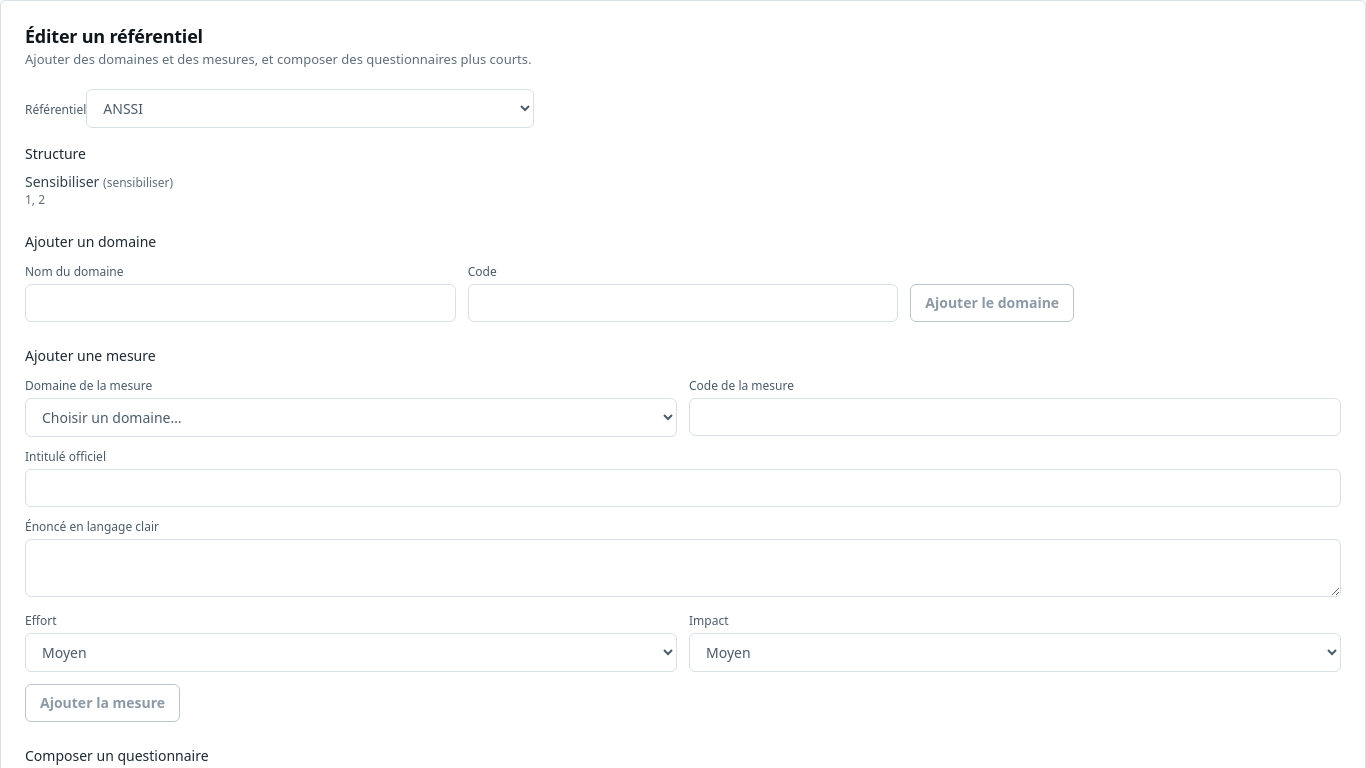
EditionReferentiel › n’ajoute pas une mesure dont l’énoncé n’est pas rédigé
The width and height of the screenshot is (1366, 768).
Check: the heading "Structure" is shown, box [25,144,86,163]
Select "Sensibiliser" in the dropdown labelled "Domaine de la mesure": [351, 418] box [25,398,677,437]
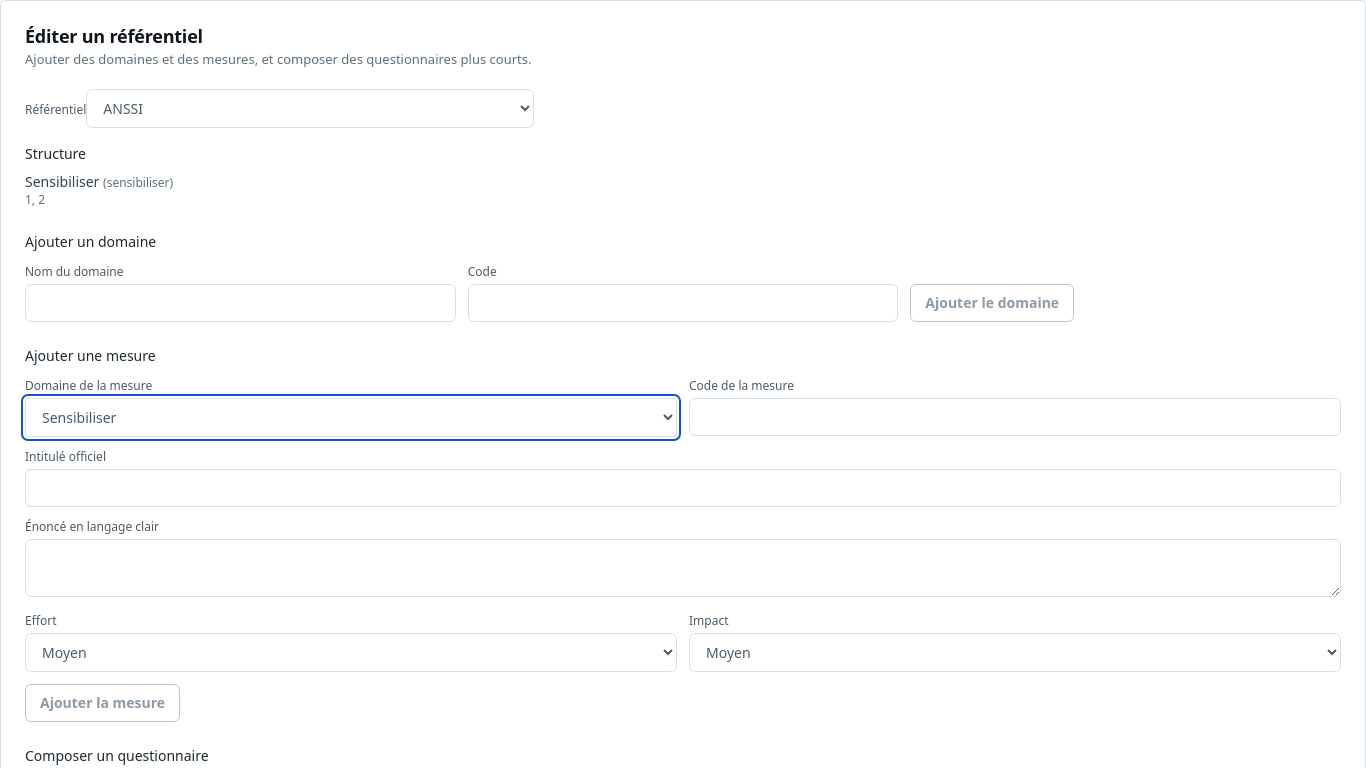
In the field labelled "Code de la mesure": [1015, 417] box [689,398,1341,436], type "3"
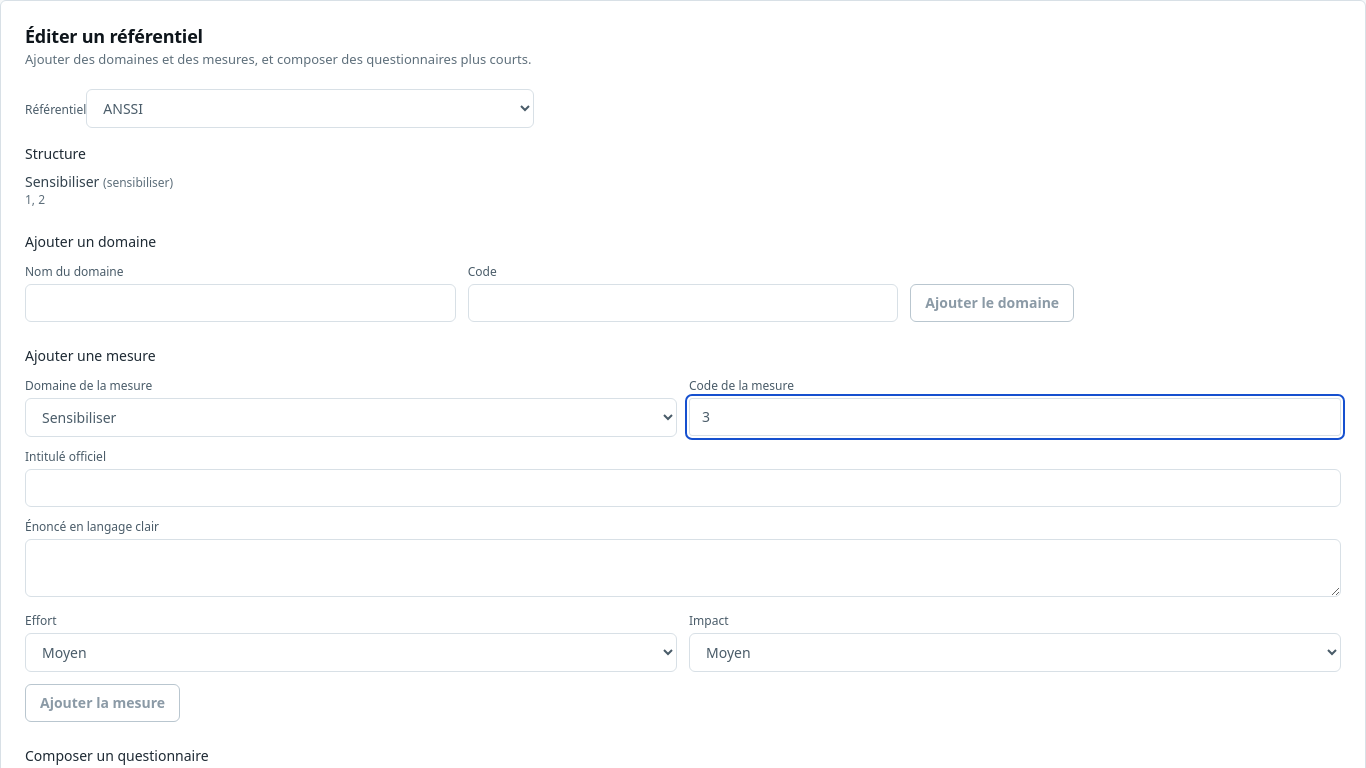
In the field labelled "Intitulé officiel": [683, 488] box [25,469,1341,507], type "Un intitulé"
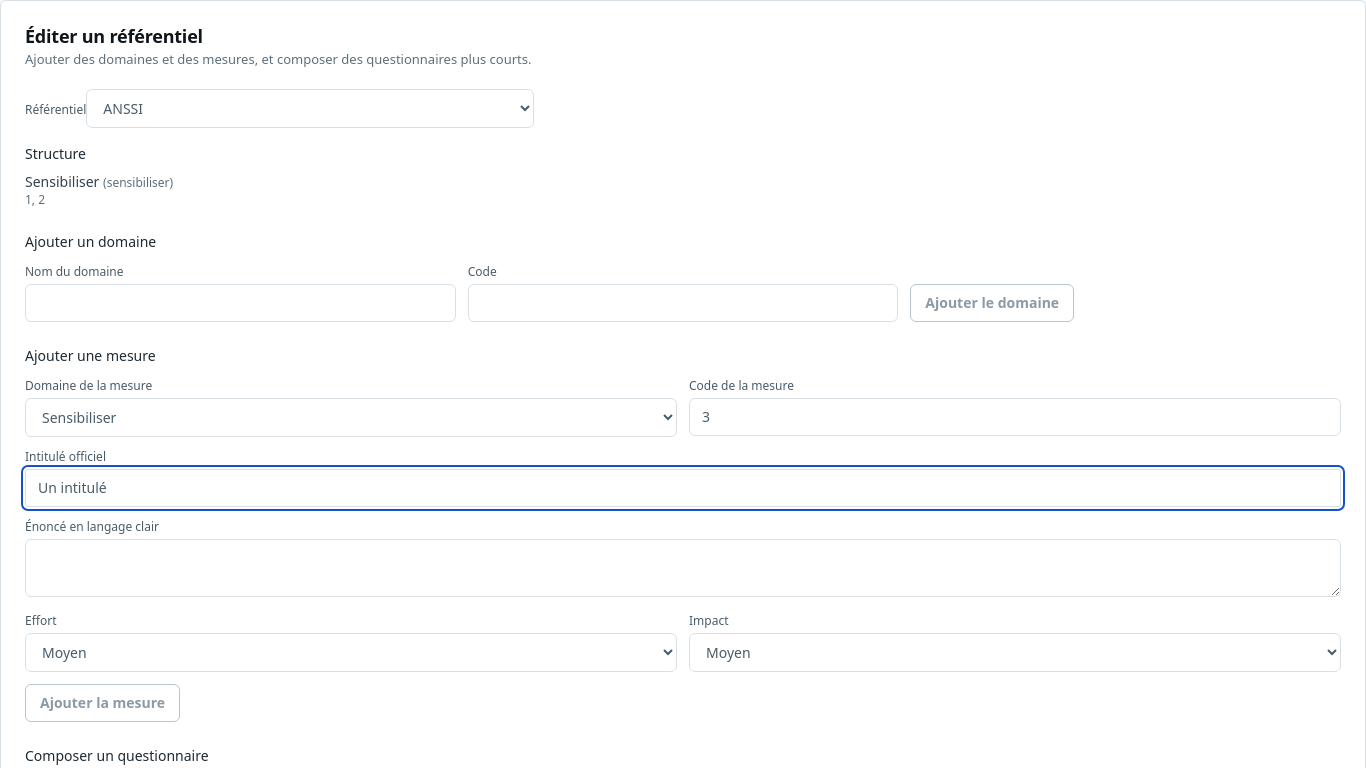
Check: the button "Ajouter la mesure" is disabled, box [25,684,180,722]
In the text box labelled "Énoncé en langage clair": [683, 568] box [25,539,1341,597], type "Une question ?"
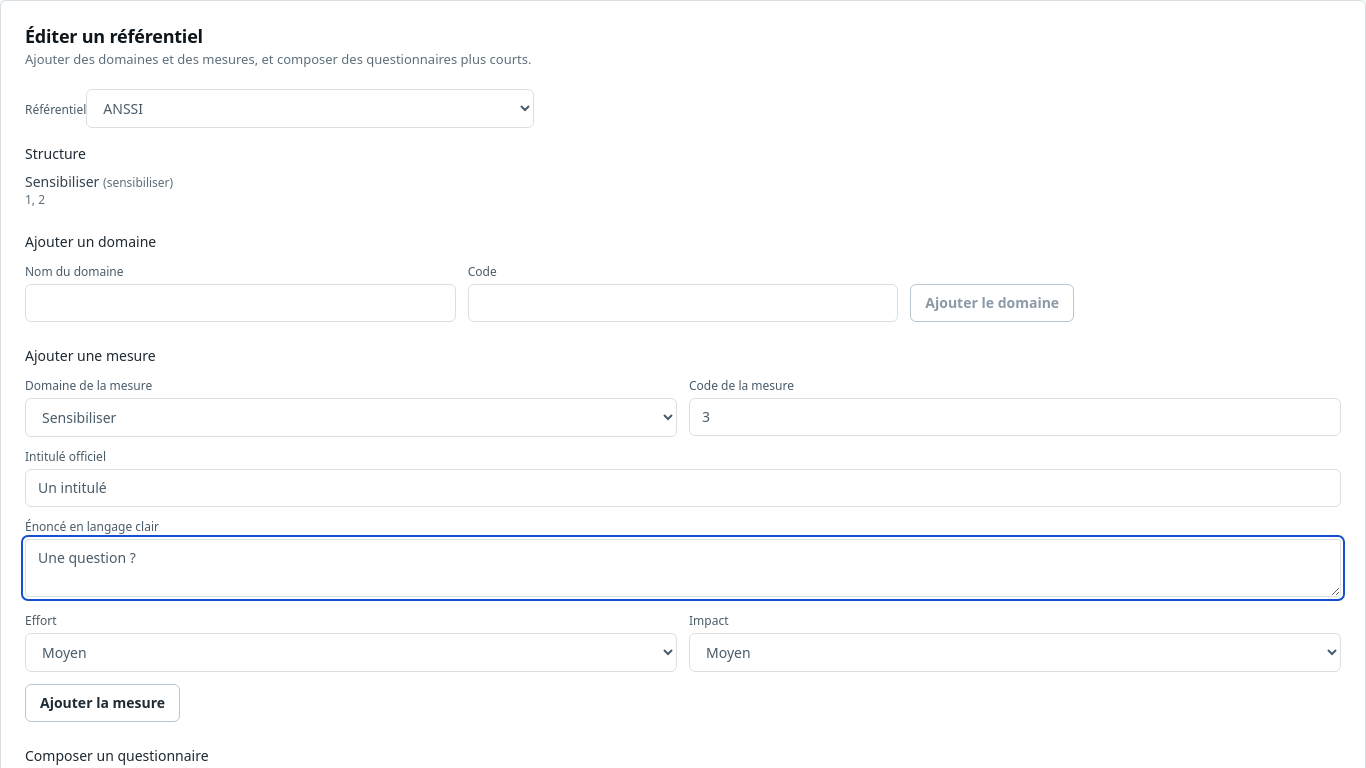
Check: the button "Ajouter la mesure" is enabled, box [25,684,180,722]
